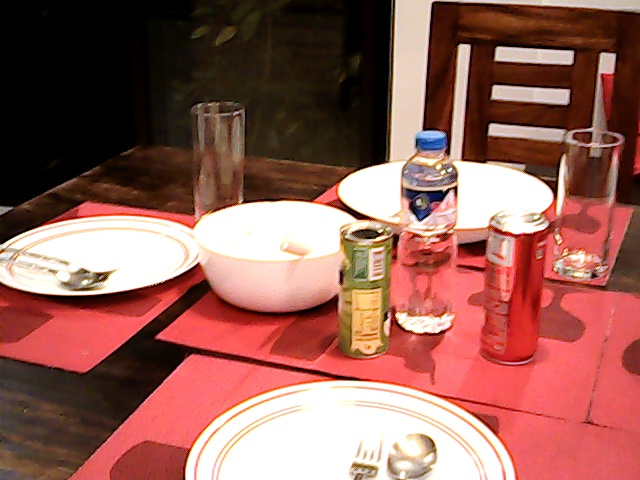Cola: (481, 202, 550, 367)
Pine Juice: (332, 217, 393, 360)
Summit Water: (392, 128, 462, 334)
